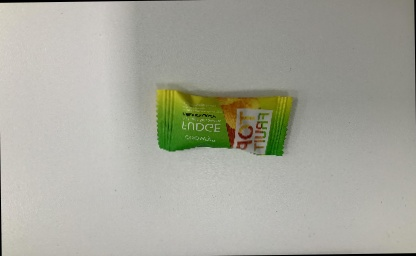jeli: (149, 84, 302, 161)
